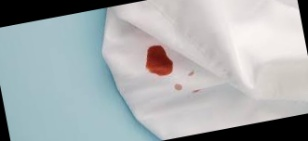blood: (141, 42, 175, 79)
